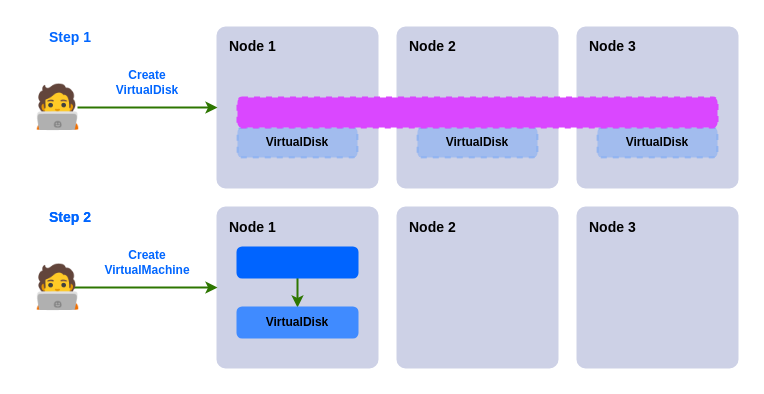
Some shapes in this 764 by 394 pixel diagram are drawn without their labels. Here are the shapes that lost their labels. From the top down, the box of each, then its label:
(236, 96, 718, 128): ⏳ WaitForFirstConsumer
(236, 246, 358, 278): VirtualMachine
